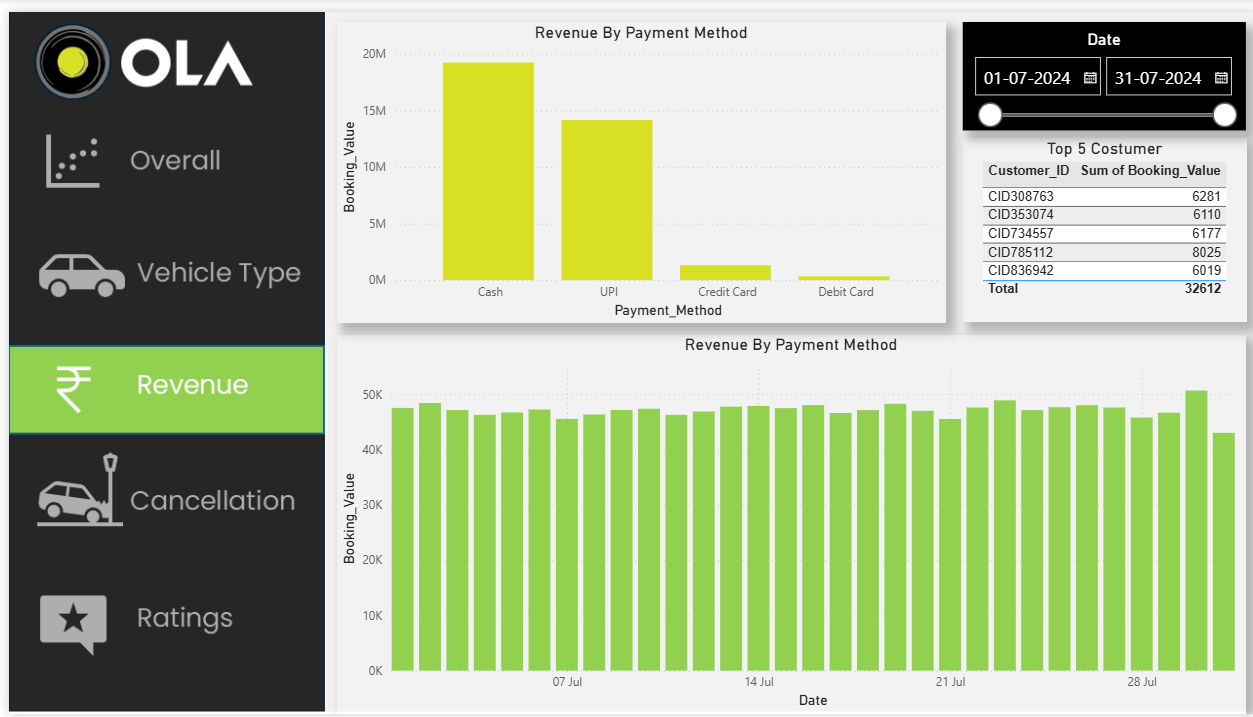

The page's visual inventory and layout, read from the dashboard file:
{"tool":"powerbi","page":{"name":"Revenue","canvas":[1280,720],"ordinal":2},"visuals":[{"type":"actionButton","box":[0,224.4,325.7,94.1],"z":0},{"type":"actionButton","box":[0,109.8,325.7,90.5],"z":1000},{"type":"actionButton","box":[0,340.2,325.7,92.9],"z":2000},{"type":"actionButton","box":[0,447.6,325.7,94.1],"z":3000},{"type":"actionButton","box":[0,583.9,325.7,88.1],"z":4000},{"type":"clusteredColumnChart","title":"Revenue By Payment Method","fields":{"Category":["July.Payment_Method"],"Y":["Sum(July.Booking_Value)"]},"box":[336.2,10,625,308.8],"z":5000},{"type":"clusteredColumnChart","title":"Revenue By Payment Method","fields":{"Y":["Sum(July.Ride_Distance)"],"Category":["July.Date"]},"box":[336.2,331.2,932.5,388.8],"z":6000},{"type":"slicer","title":"Date","fields":{"Values":["July.Date"]},"box":[978.8,10,290,111.2],"z":7000},{"type":"tableEx","title":"Top 5 Costumer","fields":{"Values":["July.Customer_ID","Sum(July.Booking_Value)"]},"box":[978.8,130,291.2,188.8],"z":8000}]}

Visuals, with their boxes in screenshot pixels (x1, y1, x2, y2), scaled from the page's 1280x720 canvas onto the 1253x717 screenshot:
actionButton: left=0, top=223, right=319, bottom=317
actionButton: left=0, top=109, right=319, bottom=199
actionButton: left=0, top=339, right=319, bottom=431
actionButton: left=0, top=446, right=319, bottom=539
actionButton: left=0, top=581, right=319, bottom=669
"Revenue By Payment Method" clusteredColumnChart: left=329, top=10, right=941, bottom=317
"Revenue By Payment Method" clusteredColumnChart: left=329, top=330, right=1242, bottom=716
"Date" slicer: left=958, top=10, right=1242, bottom=121
"Top 5 Costumer" tableEx: left=958, top=129, right=1243, bottom=317
